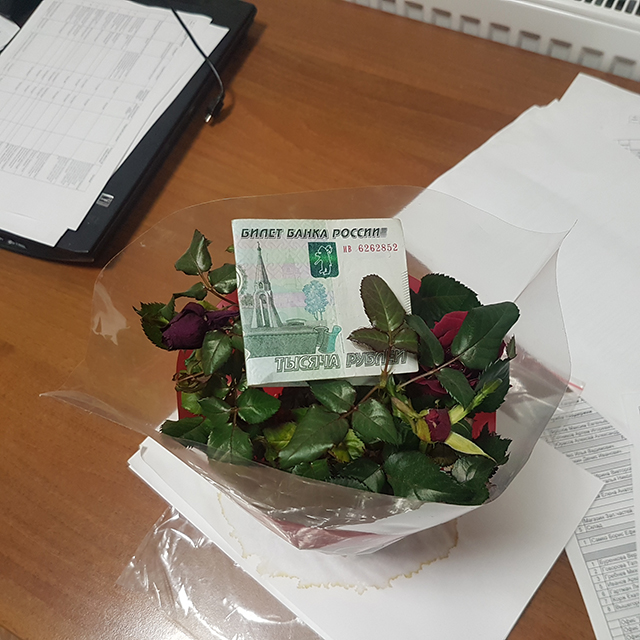banknotes: (231, 217, 416, 388)
